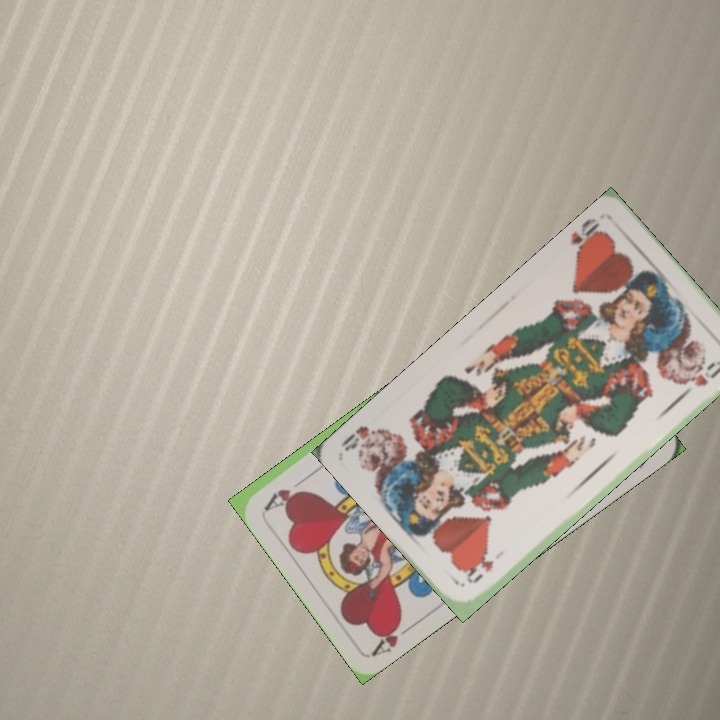HA: (369, 613, 421, 659)
HO: (566, 214, 610, 264), (462, 555, 497, 587)
